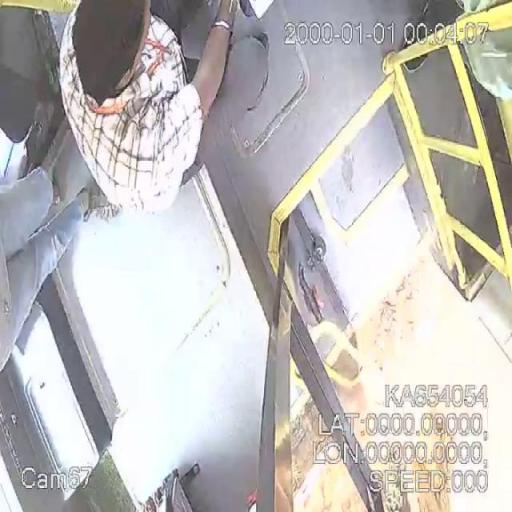persona: (56, 1, 245, 214), (2, 165, 92, 379)
